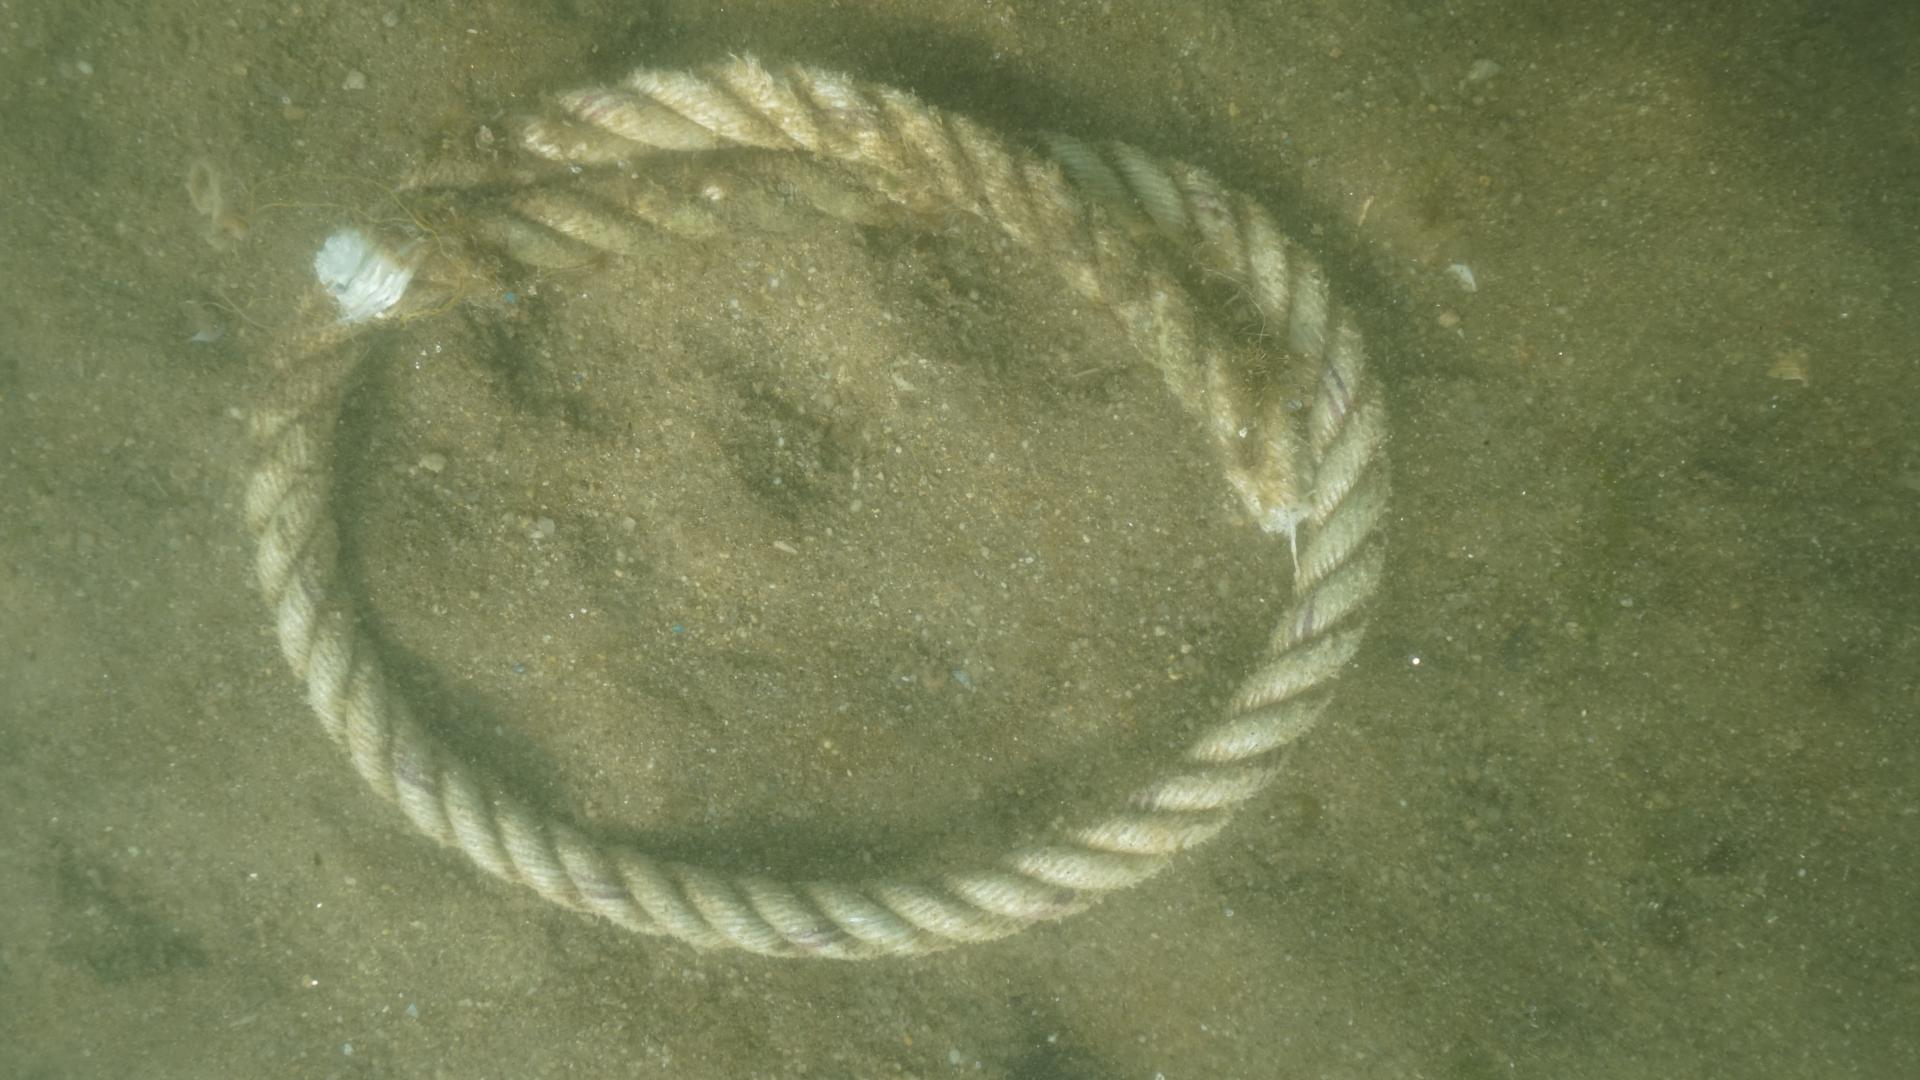bundle of ropes: (237, 37, 1402, 965)
